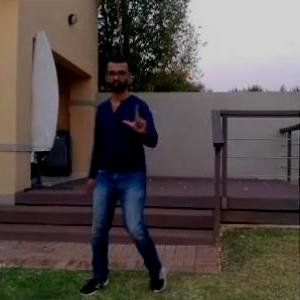land_hand: (123, 104, 154, 142)
